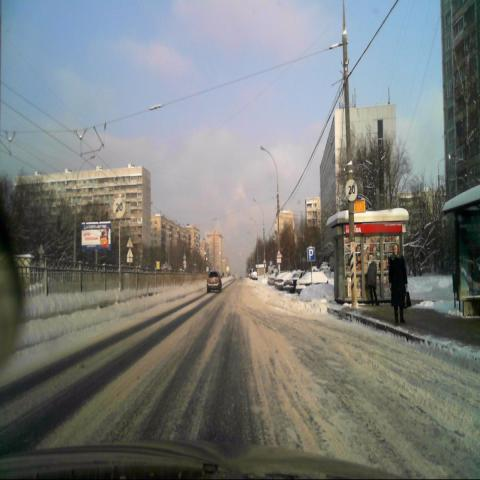3_25: (112, 196, 126, 219), (344, 178, 358, 201)
